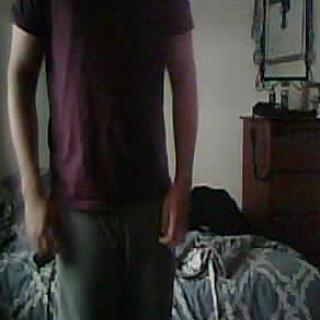Gray Sweatpants: (54, 205, 176, 320)
Maroon T-Shirt: (20, 0, 175, 201)
